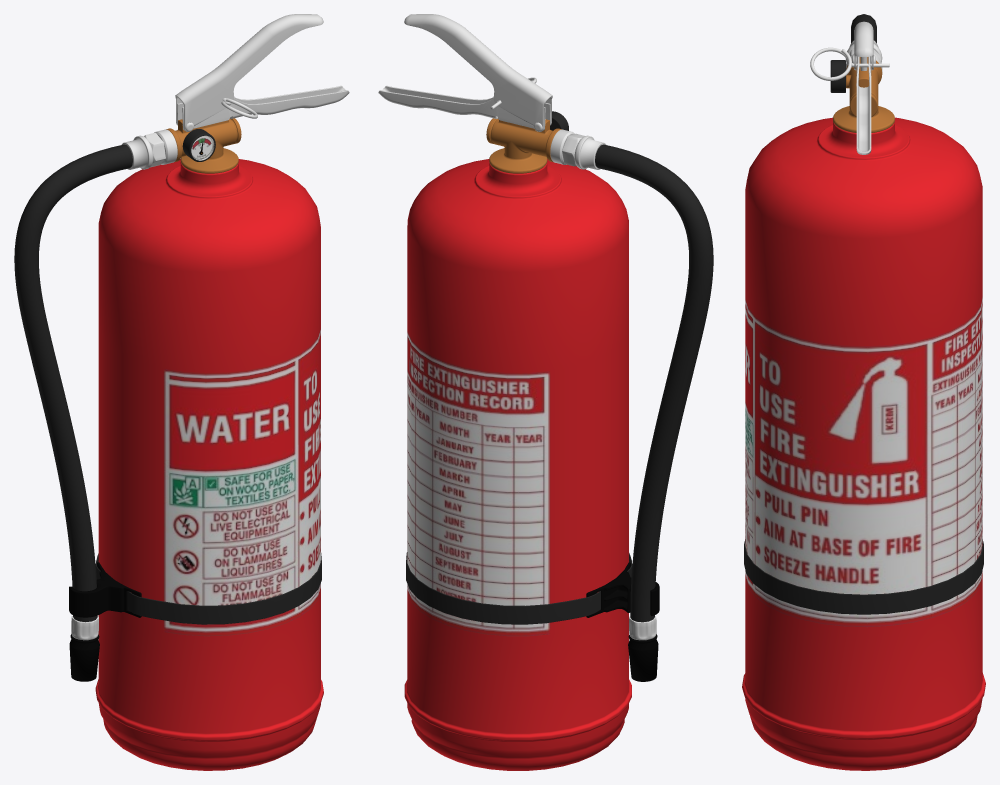
Rendered from fire.glb.
3 renders of one model, left to right at view 1: azimuth 30°, elevation 25°; view 2: azimuth 150°, elevation 25°; view 3: azimuth 270°, elevation 25°, orthographic. The views are drawn at different scales.
Visible parts, largest first — view 1: Fire extinguisher; view 2: Fire extinguisher; view 3: Fire extinguisher.
Boxes of the visible parts, box(x1,y1,x2,y2) form: Fire extinguisher: box(14, 14, 349, 770); Fire extinguisher: box(378, 14, 713, 770); Fire extinguisher: box(742, 14, 985, 770).
Bounding box in the file's own units: 0.3132 × 0.6307 × 0.1867.
7 materials, 2 textured.
